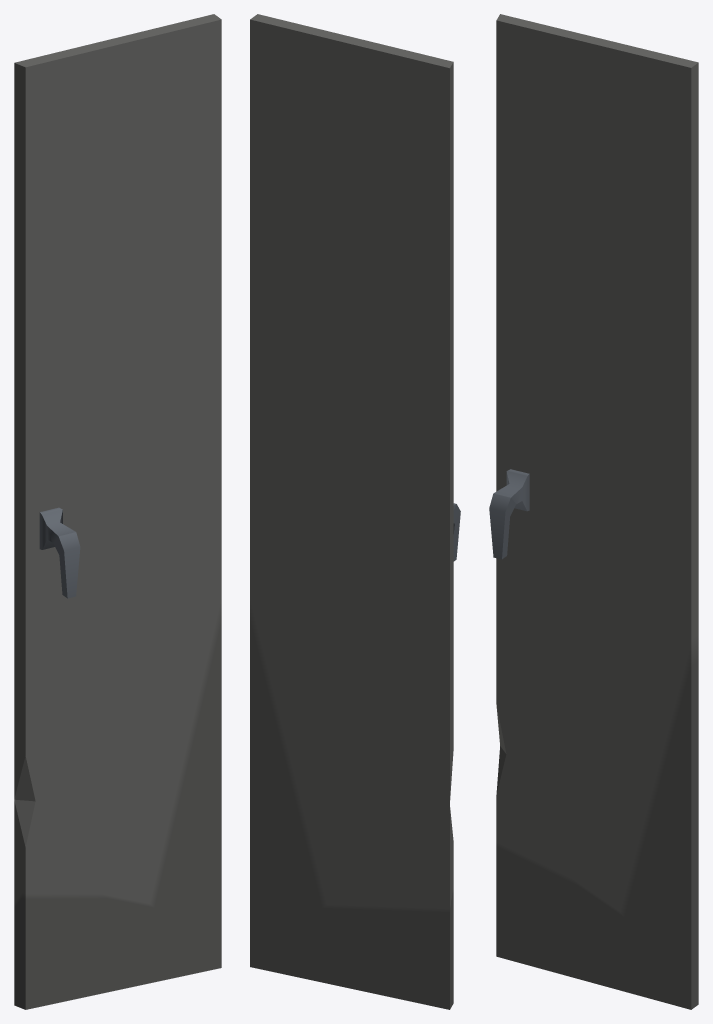
The model's file is SM_Prop_Cabinet_Door_02.glb.
3 renders of one model, left to right at view 1: azimuth 30°, elevation 25°; view 2: azimuth 150°, elevation 25°; view 3: azimuth 330°, elevation 25°, orthographic.
Visible parts, largest first — view 1: SM_Prop_Cabinet_Door_02; view 2: SM_Prop_Cabinet_Door_02; view 3: SM_Prop_Cabinet_Door_02.
Boxes of the visible parts, box(x1,y1,x2,y2) form: SM_Prop_Cabinet_Door_02: box(14, 14, 221, 1009); SM_Prop_Cabinet_Door_02: box(250, 14, 460, 1009); SM_Prop_Cabinet_Door_02: box(489, 14, 698, 1009).
Size of the model in its own units: 0.4937 by 2.24 by 0.1301.
Materials: 1 (1 with a texture image).
